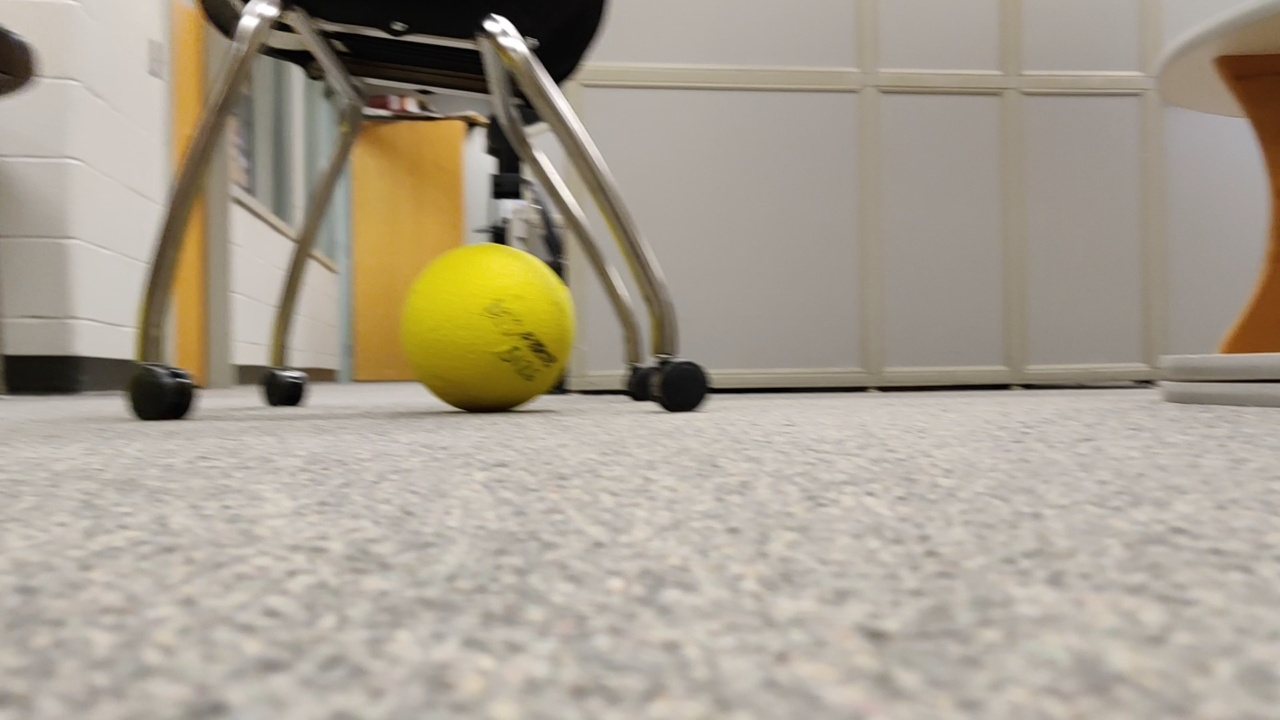Ball: (396, 248, 589, 426)
